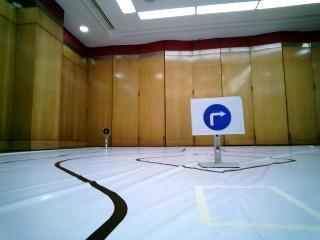right: (194, 101, 245, 135)
